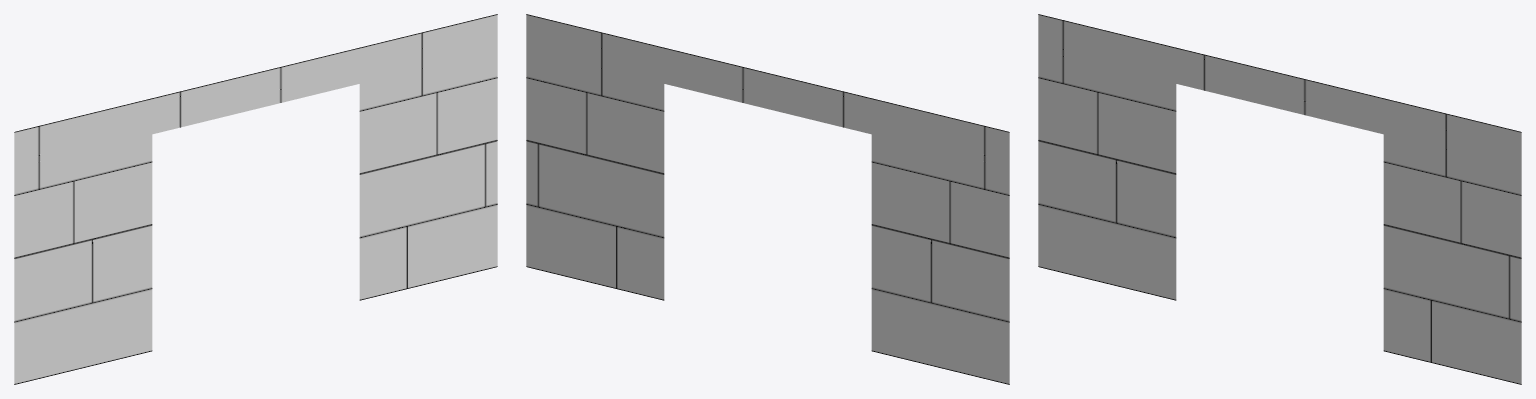
The model's file is Wall700cmFrame300x300cm.FBX.
The picture shows the model from 3 angles, left to right: view 1: azimuth 30°, elevation 25°; view 2: azimuth 150°, elevation 25°; view 3: azimuth 330°, elevation 25°; orthographic projection.
Visible parts, largest first — view 1: Wall700cmFrame300x300cm; view 2: Wall700cmFrame300x300cm; view 3: Wall700cmFrame300x300cm.
Boxes of the visible parts, bbox=[...] form: Wall700cmFrame300x300cm: bbox=[14, 14, 497, 384]; Wall700cmFrame300x300cm: bbox=[526, 14, 1009, 384]; Wall700cmFrame300x300cm: bbox=[1038, 14, 1521, 384].
Bounding box in the file's own units: 700 × 350 × 5.48e-05.
